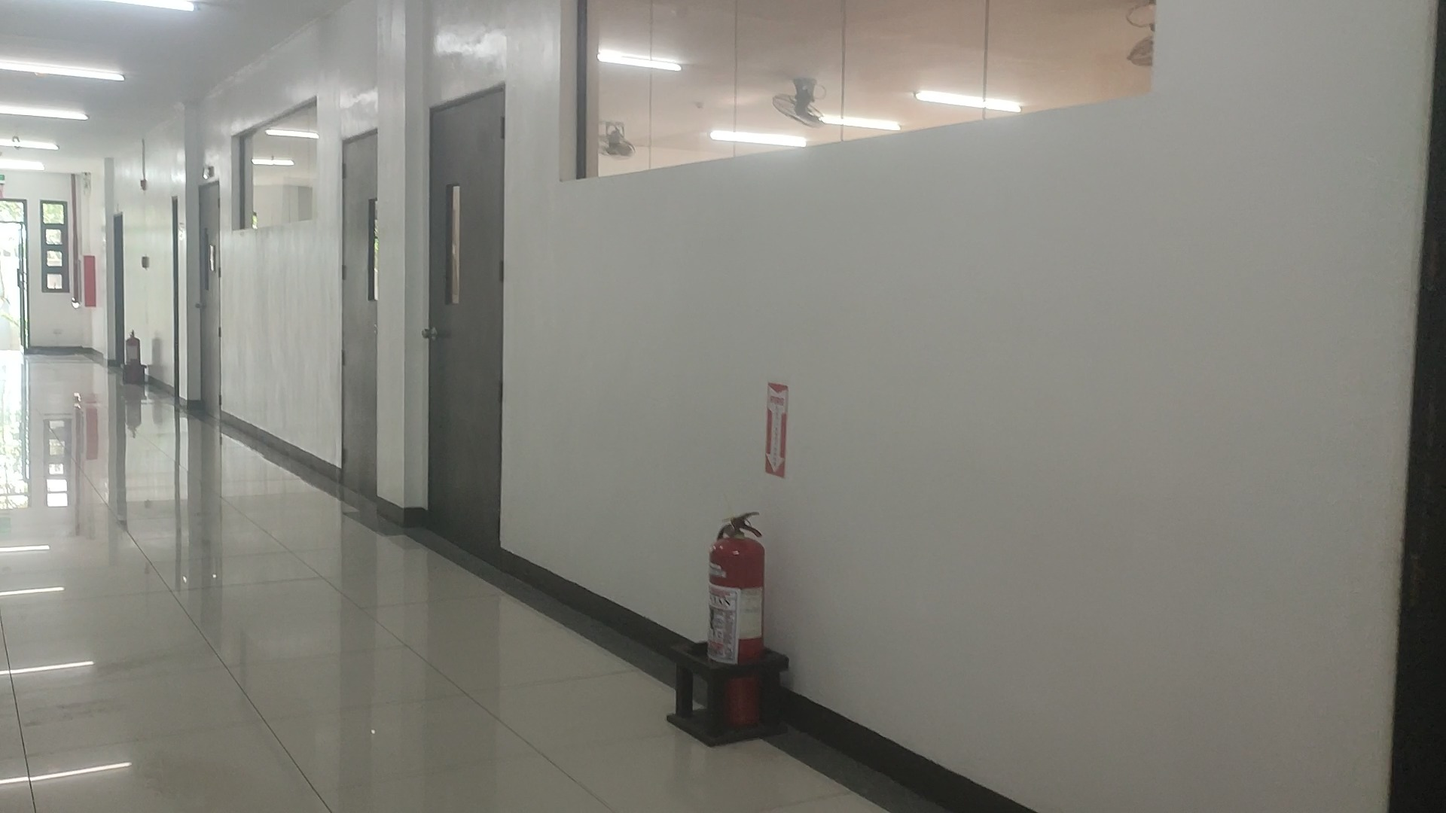door: (426, 83, 505, 559), (340, 126, 377, 493)
